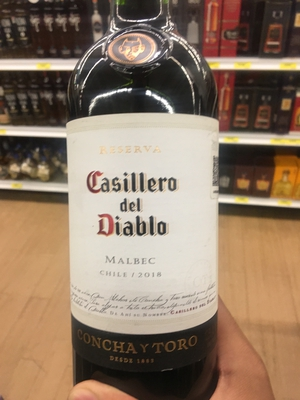casillero del diablo malbec: (47, 4, 237, 400)
